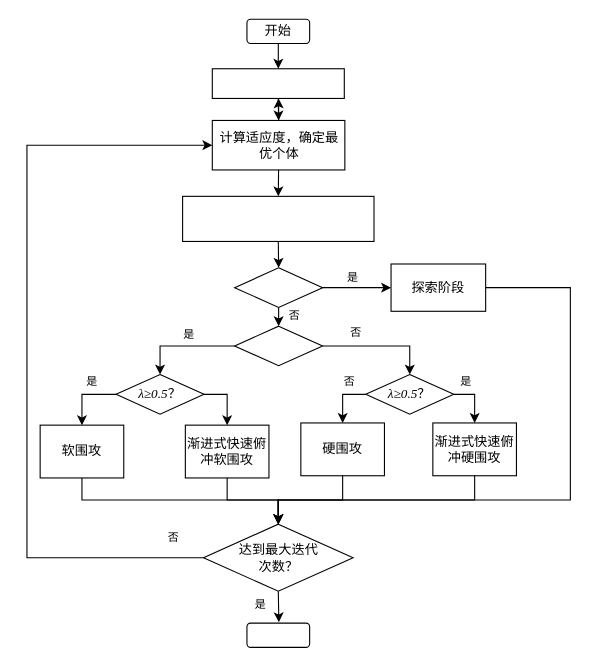
Image size: 598x667. Some labels were removed from this diagram. Each missing label, with the centre of its shape:
"|E|<1？" belongs at (278,345).
"|E|≥1？" belongs at (278,287).
"初始化种群" belongs at (277,83).
"更新逃逸能量 E 和 λ" belongs at (278,218).
"结束" belongs at (278,634).
